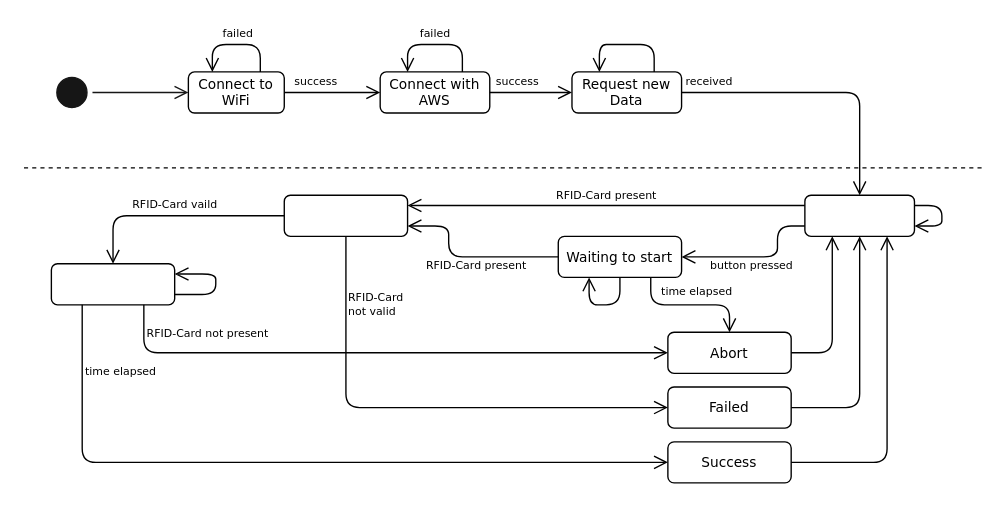
Some shapes in this 1008 by 507 pixel diagram are drawn without their labels. The centre of each missing label's shape, as x and y in pixels:
"Authentification" goes at pixel 345 215.
"Confirmation" goes at pixel 112 283.
"Standby" goes at pixel 859 215.
